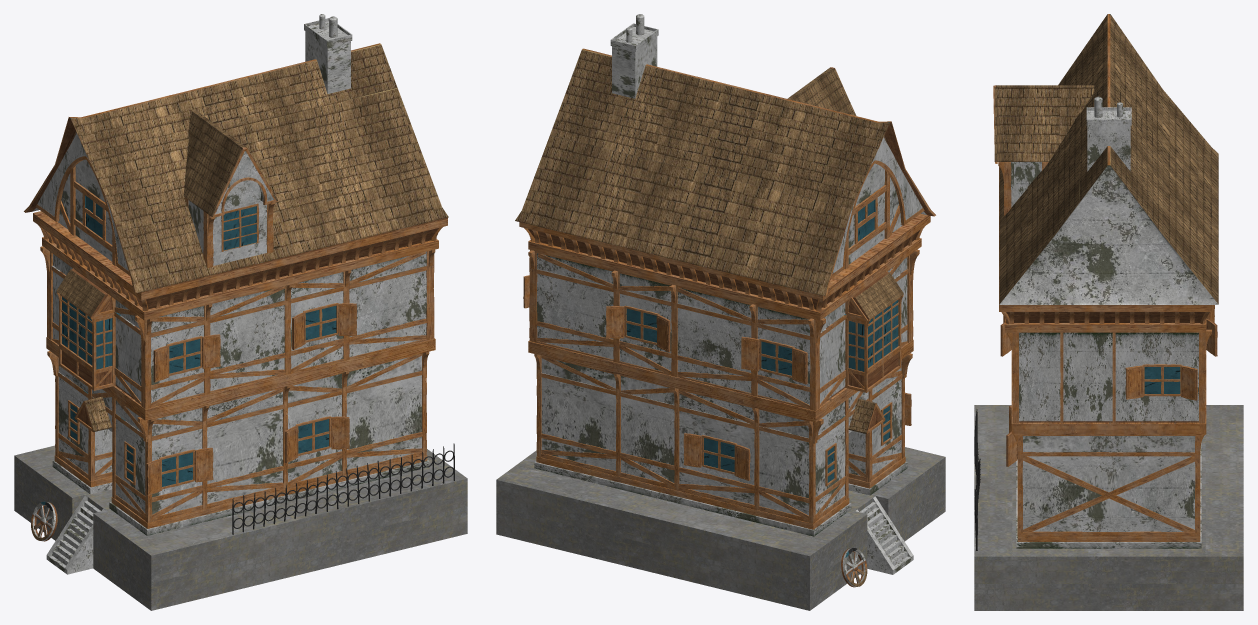
File: edificio.glb
The picture shows the model from 3 angles, left to right: view 1: azimuth 30°, elevation 25°; view 2: azimuth 150°, elevation 25°; view 3: azimuth 270°, elevation 25°; orthographic projection.
Visible parts, largest first — view 1: Box001, Box005, Box002, Object060_BaseColor_0, Box004, Box128, Box162, Box201, Box003, Object043_BaseColor_0, Box298, Box297 (+20 smaller); view 2: Box005, Box001, Box002, Box004, Box128, Box162, Box003, Box201, Box297, StraightStair001, Box286, Shape001 (+15 smaller); view 3: Box005, Box001, Box002, Box004, Object043_BaseColor_0, Object060_BaseColor_0, Box128, Box003, Box297, Box201, Box4078, Box4033 (+11 smaller).
Part boxes in pixels (x1,y1,x2,y2): Box001: (14, 445, 467, 610); Box005: (24, 43, 448, 293); Box002: (52, 356, 429, 535); Object060_BaseColor_0: (96, 88, 427, 246); Box004: (53, 251, 426, 403); Box128: (42, 228, 438, 320); Box162: (56, 269, 115, 390); Box201: (33, 211, 447, 300); Box003: (46, 337, 435, 420); Object043_BaseColor_0: (183, 110, 277, 216); Box298: (188, 151, 273, 265); Box297: (304, 18, 352, 93); Box005: (515, 48, 935, 295); Box001: (496, 447, 945, 610); Box002: (534, 358, 907, 536); Box004: (537, 253, 907, 404); Box128: (528, 229, 921, 320); Box162: (845, 272, 903, 392); Box003: (528, 339, 913, 422); Box201: (519, 213, 930, 300); Box297: (610, 23, 658, 98); StraightStair001: (855, 496, 913, 574); Box286: (848, 163, 902, 264); Shape001: (541, 372, 902, 442); Box005: (999, 14, 1218, 304); Box001: (974, 405, 1243, 610); Box002: (1016, 436, 1201, 548); Box004: (1019, 332, 1198, 422); Object043_BaseColor_0: (994, 85, 1094, 161); Object060_BaseColor_0: (1027, 56, 1080, 266); Box128: (1005, 312, 1206, 332); Box003: (1011, 349, 1206, 434); Box297: (1086, 107, 1131, 171); Box201: (999, 167, 1212, 311); Box4078: (1143, 364, 1181, 396); Box4033: (1023, 456, 1194, 531).
Size of the model in its own units: 12.98 by 17.66 by 9.
Materials: 2 (2 with a texture image).
